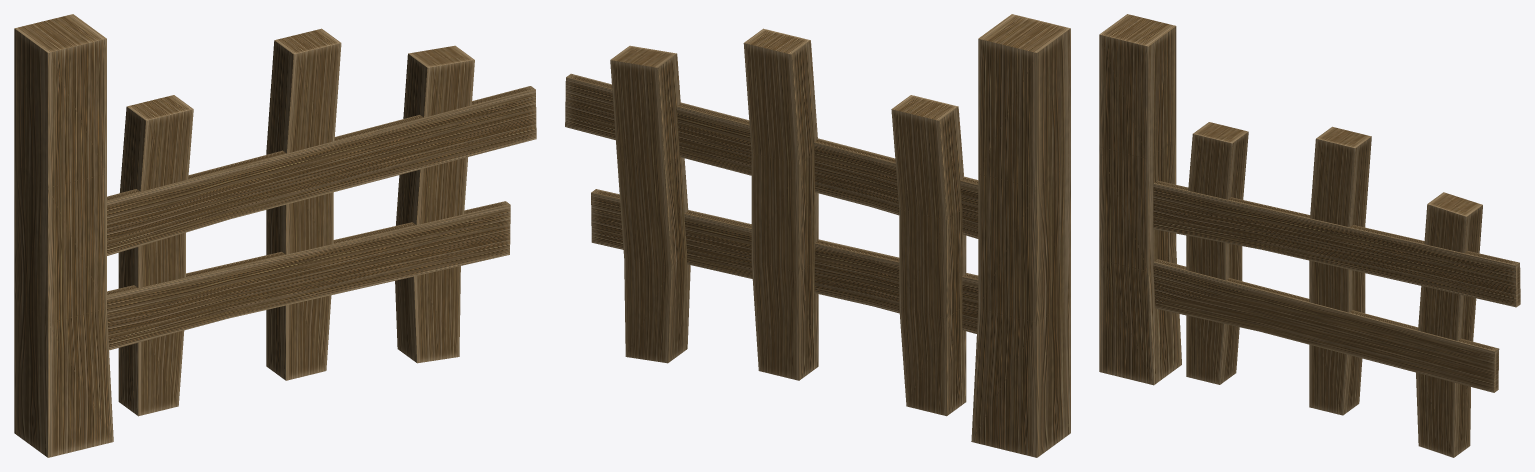
Rendered from fence_segment2.fbx.
3 views of the same model, side by side, from view 1: azimuth 30°, elevation 25°; view 2: azimuth 150°, elevation 25°; view 3: azimuth 330°, elevation 25° (orthographic). The views are drawn at different scales.
Visible parts, largest first — view 1: Mesh; view 2: Mesh; view 3: Mesh.
Part boxes in pixels (<box>): Mesh: <box>14,14,536,457</box>; Mesh: <box>565,14,1070,457</box>; Mesh: <box>1099,14,1520,457</box>.
Size of the model in its own units: 202 by 160 by 23.86.
